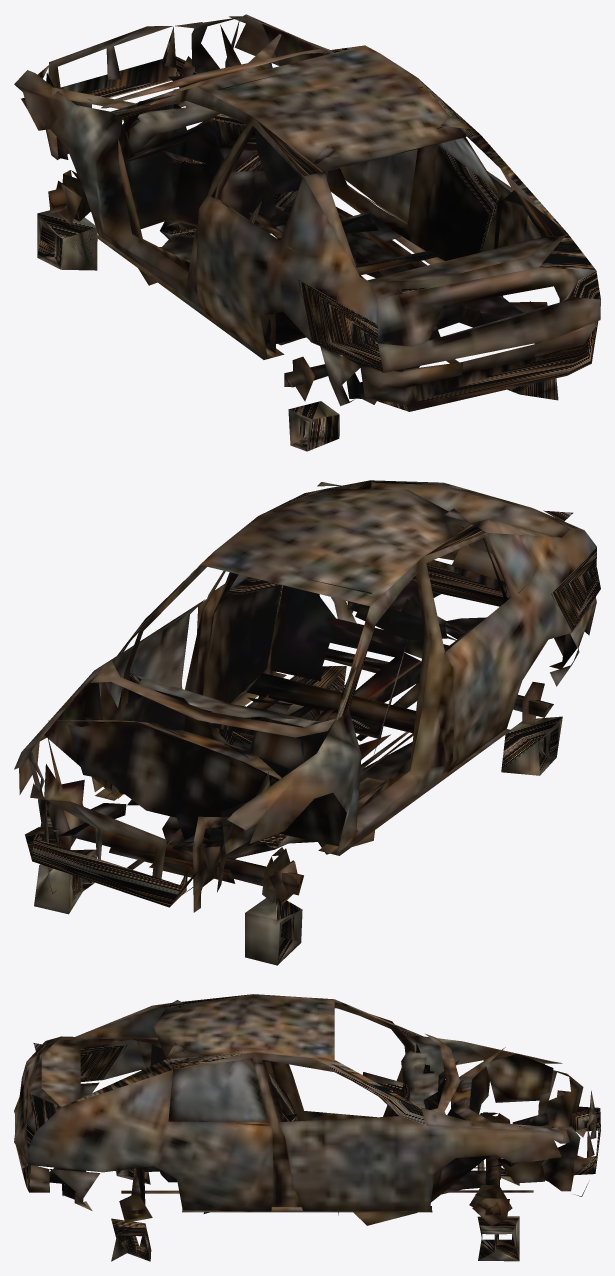
Rendered from burned_car_wreck.glb.
The picture shows the model from 3 angles, top to bottom: view 1: azimuth 30°, elevation 25°; view 2: azimuth 150°, elevation 25°; view 3: azimuth 270°, elevation 25°; orthographic projection. The views are drawn at different scales.
Visible parts, largest first — view 1: geometry_0; view 2: geometry_0; view 3: geometry_0.
Boxes of the visible parts, bbox=[...] form: geometry_0: bbox=[14, 14, 600, 451]; geometry_0: bbox=[14, 480, 600, 965]; geometry_0: bbox=[14, 994, 600, 1261].
Bounding box in the file's own units: 1.67 × 1.59 × 4.37.
1 material, 1 textured.
